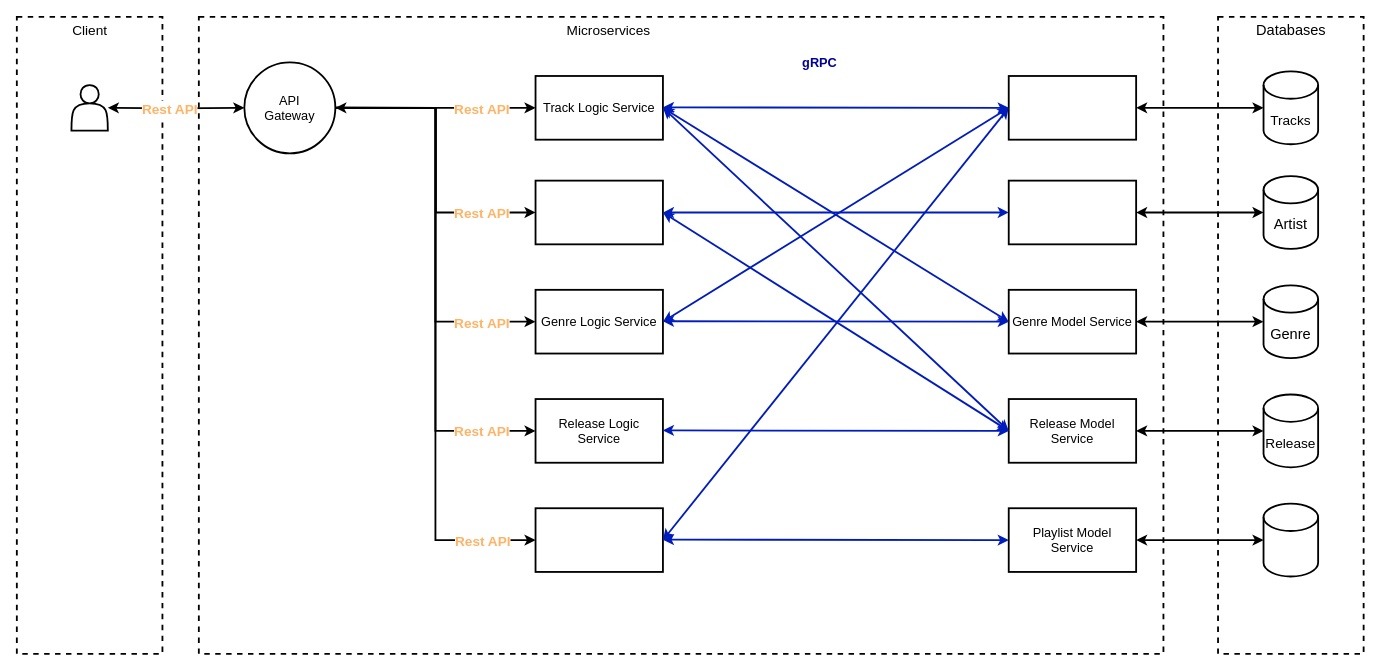
Some shapes in this 1380 by 670 pixel diagram are drawn without their labels. The shapes that lost their labels are listed below. From the top down, each one's box as (x1, y1, x2, y2) in pixels, then its label:
(1007, 75, 1137, 140): Track Model Service
(534, 179, 663, 245): Artist Logic Service
(1007, 179, 1137, 245): Artist Model Service
(534, 507, 663, 572): Playlist Logic Service
(1262, 502, 1319, 577): Playlist
